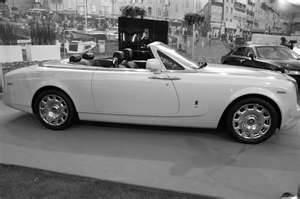car: (5, 43, 299, 144)
